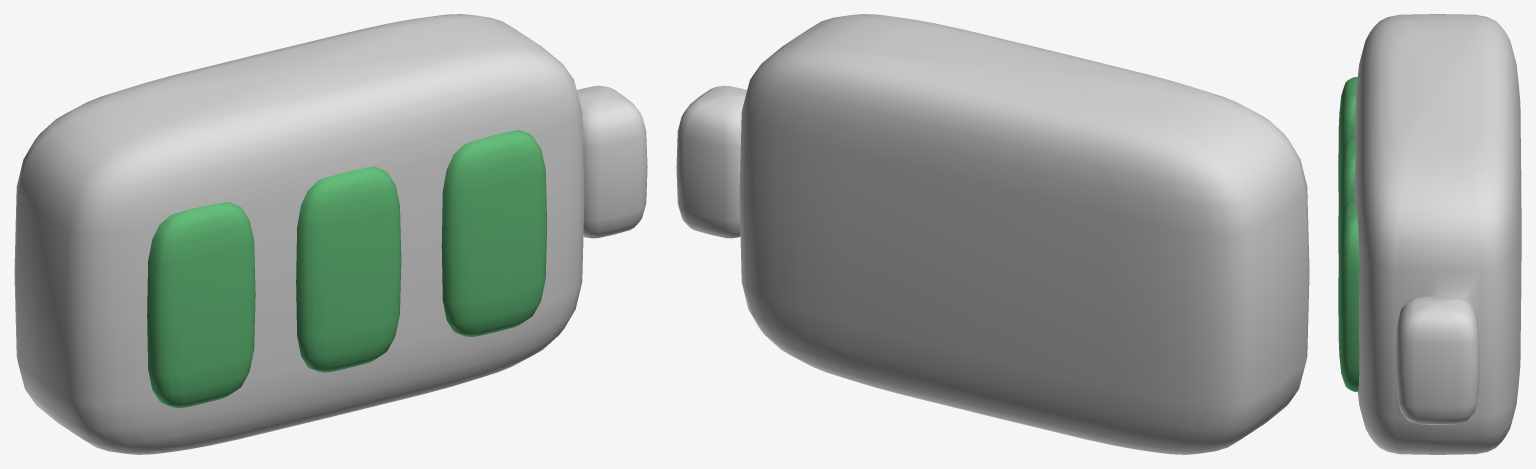
File: battery.glb
3 renders of one model, left to right at view 1: azimuth 30°, elevation 25°; view 2: azimuth 150°, elevation 25°; view 3: azimuth 270°, elevation 25°, orthographic. The views are drawn at different scales.
Parts seen in each view (by area): view 1: battery; view 2: battery; view 3: battery.
Boxes of the visible parts, x1,y1,x2,y2 form: battery: (14, 14, 647, 454); battery: (676, 14, 1309, 454); battery: (1338, 14, 1521, 454).
Size of the model in its own units: 1 by 0.5263 by 0.307.
